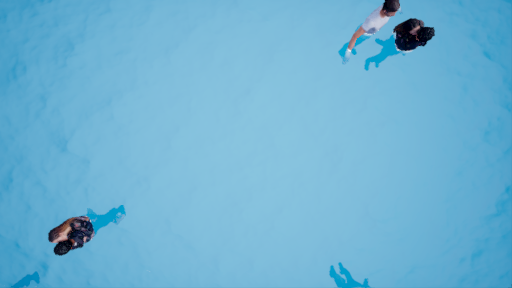person: (335, 2, 436, 71), (40, 203, 134, 259)
